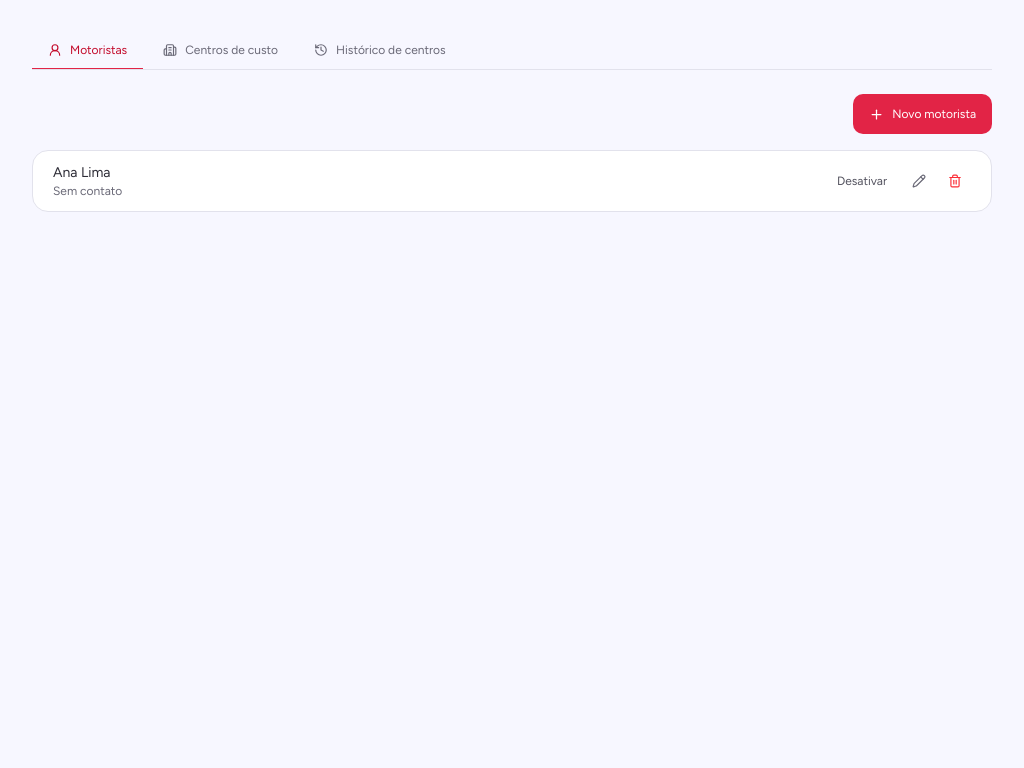
Test: Cadastros: remover com histórico vira desativar › outro erro ao remover continua como erro comum
Step 1. Click the button named "Remover Ana Lima" → click(955, 181), box [939,165,971,197]
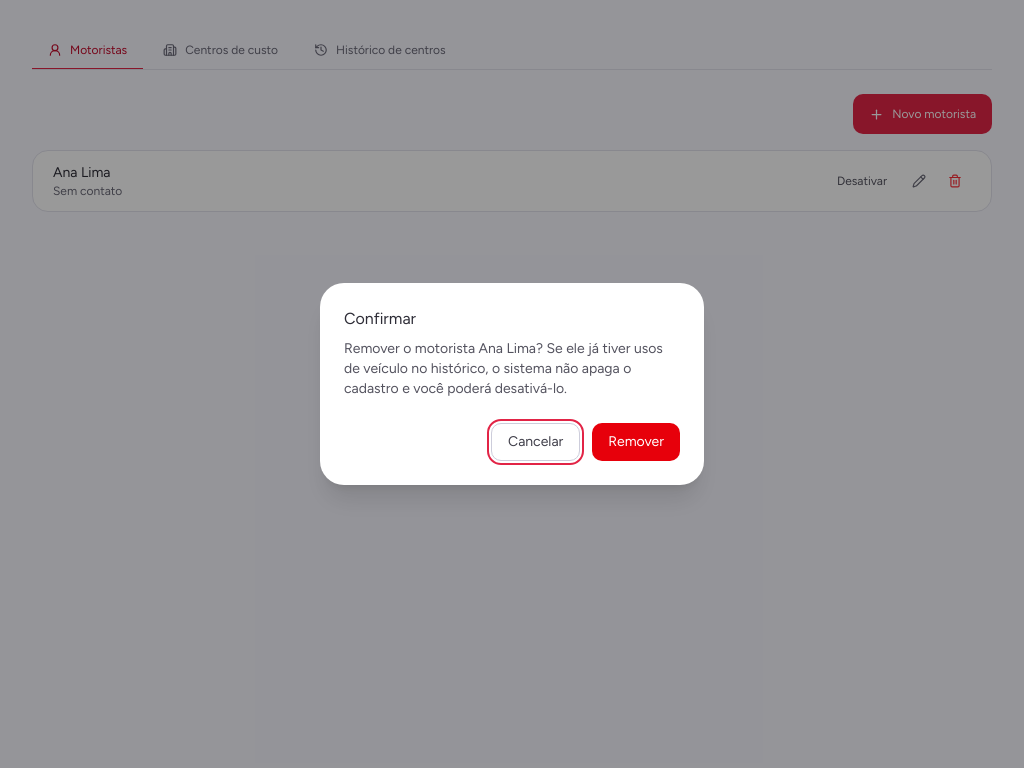
Step 2. Click the button "Remover" → click(636, 442), box [592,423,680,461]
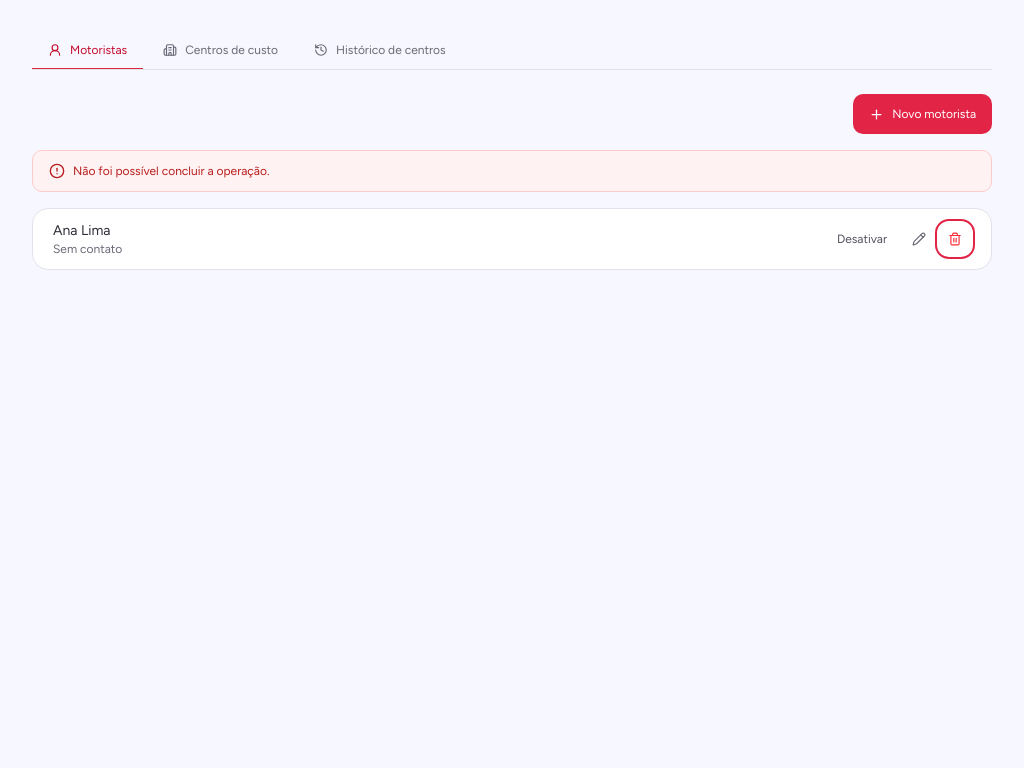
Expected: the message "Não foi possível concluir a operação." is shown, [32,150,992,192]
